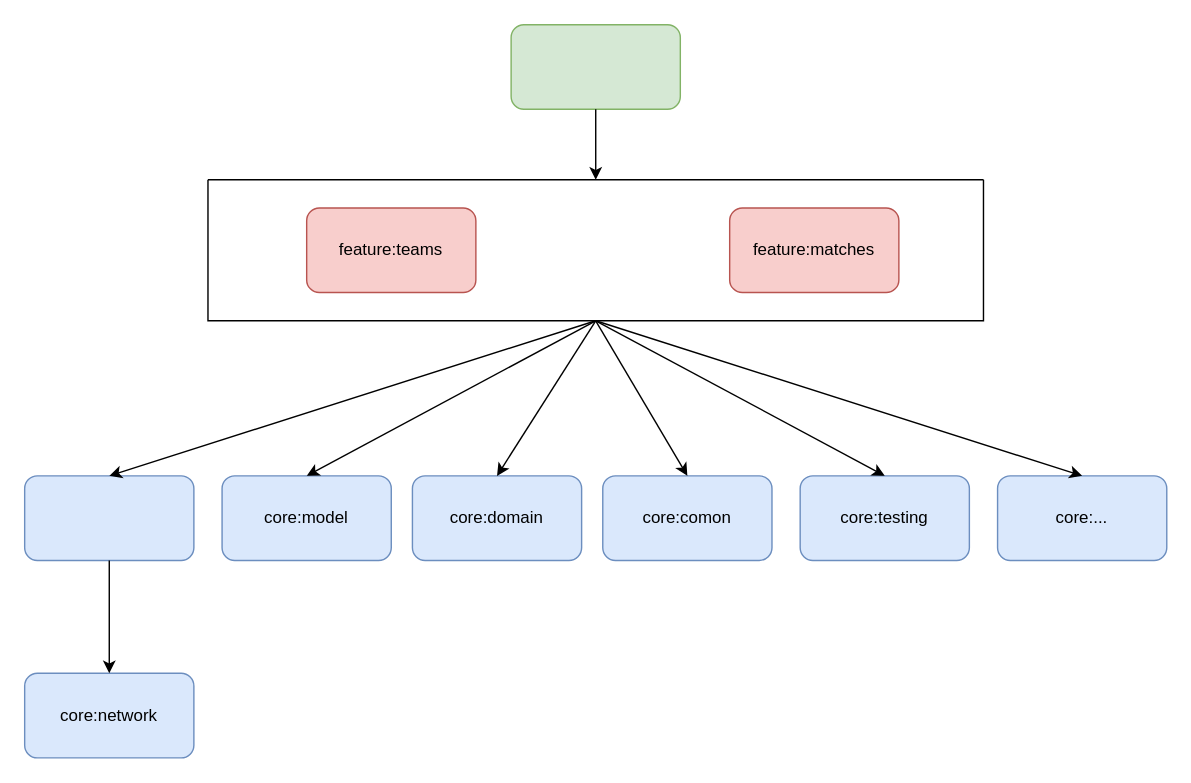
The diagram is 1191 pixels wide and 783 high, and some of its shapes have lost their labels. Here are the shapes that lost their labels. From the top down, the centre of each, then its label:
point 595,66: App
point 108,517: core:data
